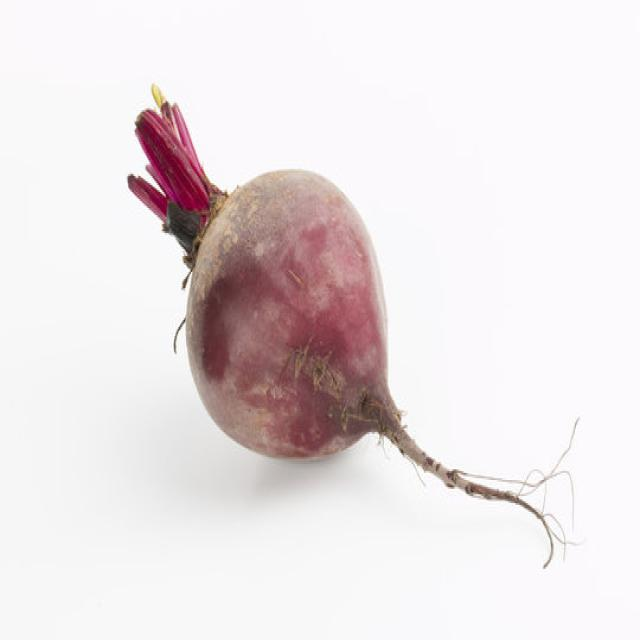Beetroot: (126, 82, 503, 540)
